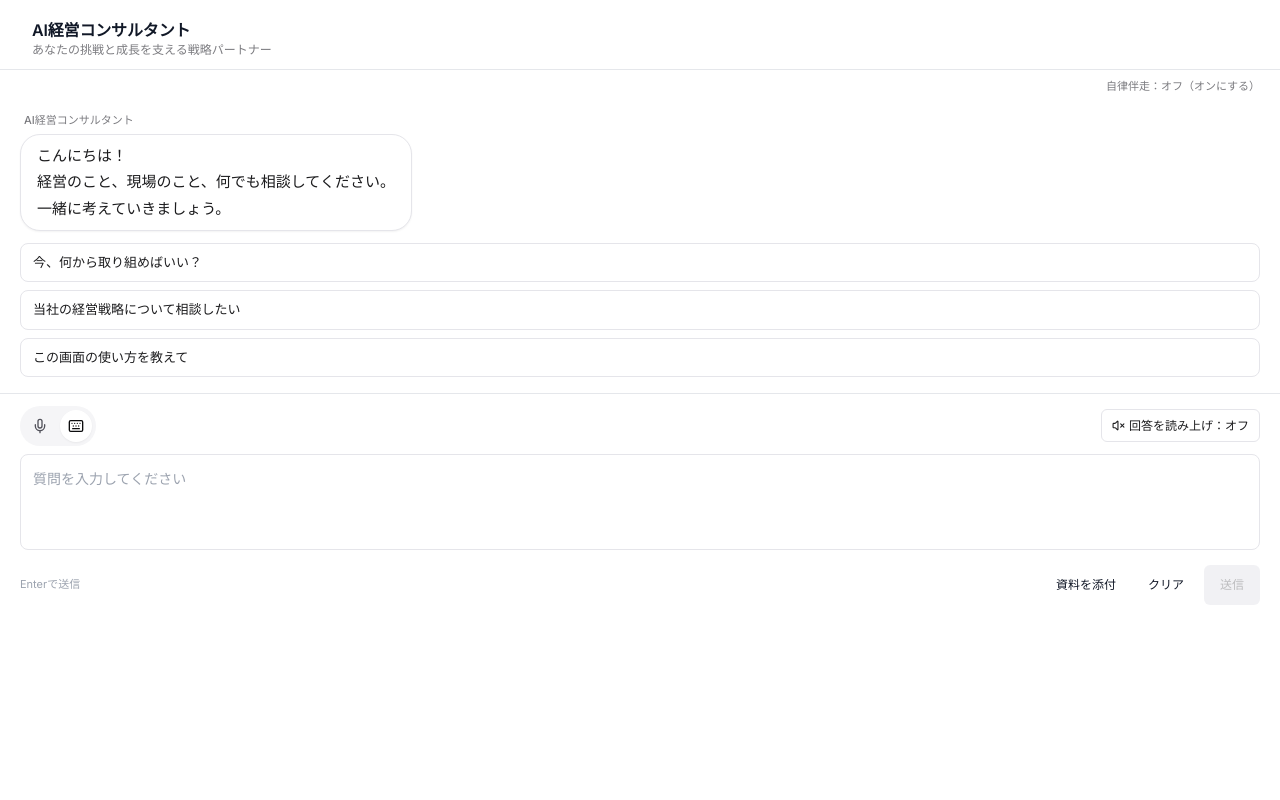
自律伴走：AIを使うのは利用者が選んだ時だけ › 伴走をオフにすると、表示中の案内は消え、以後は出ない
Expected: the text box is enabled, [20,454,1260,550]
Click the button "自律伴走：オフ（オンにする）" at (1183, 87), box [1106,78,1260,96]
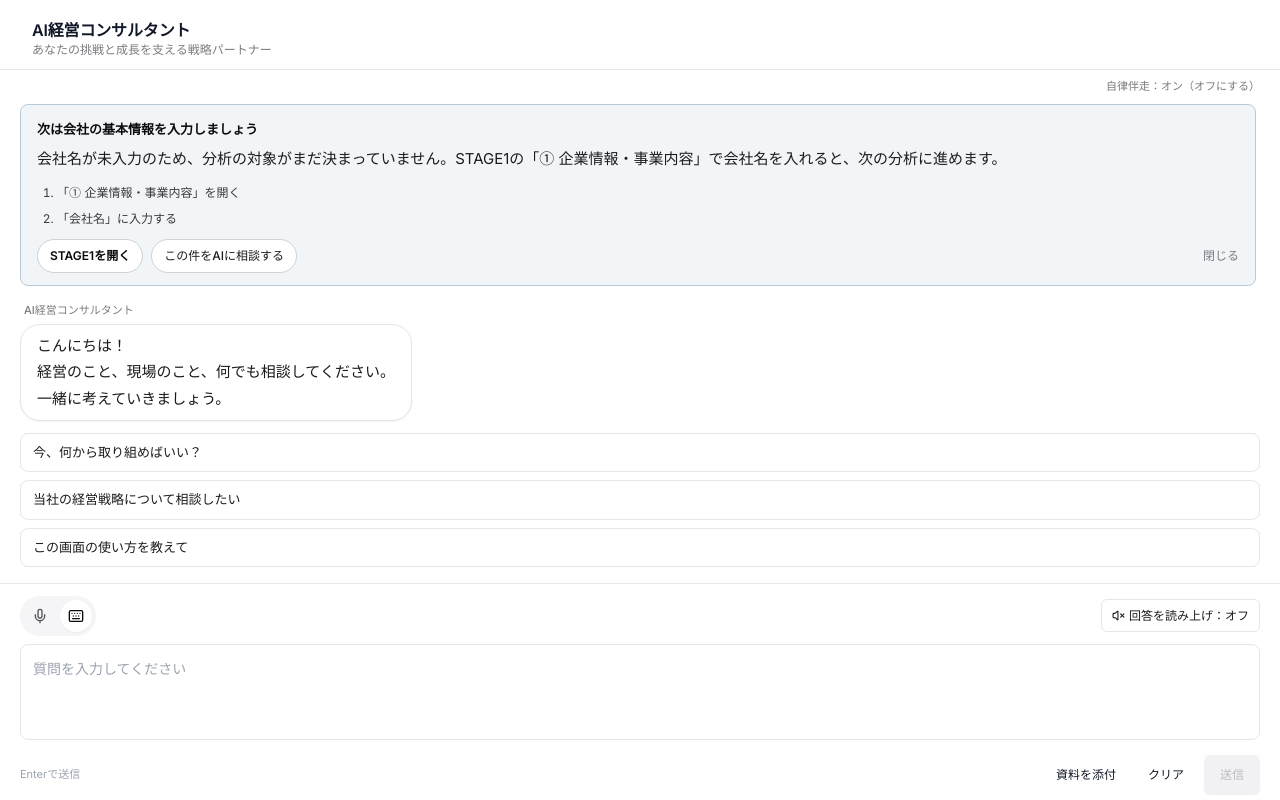
Now the element named "AI経営コンサルタントからの案内" shows "次は会社の基本情報を入力しましょう", box [37,121,258,137]
Click the button "自律伴走：オン（オフにする）" at (1183, 87), box [1106,78,1260,96]
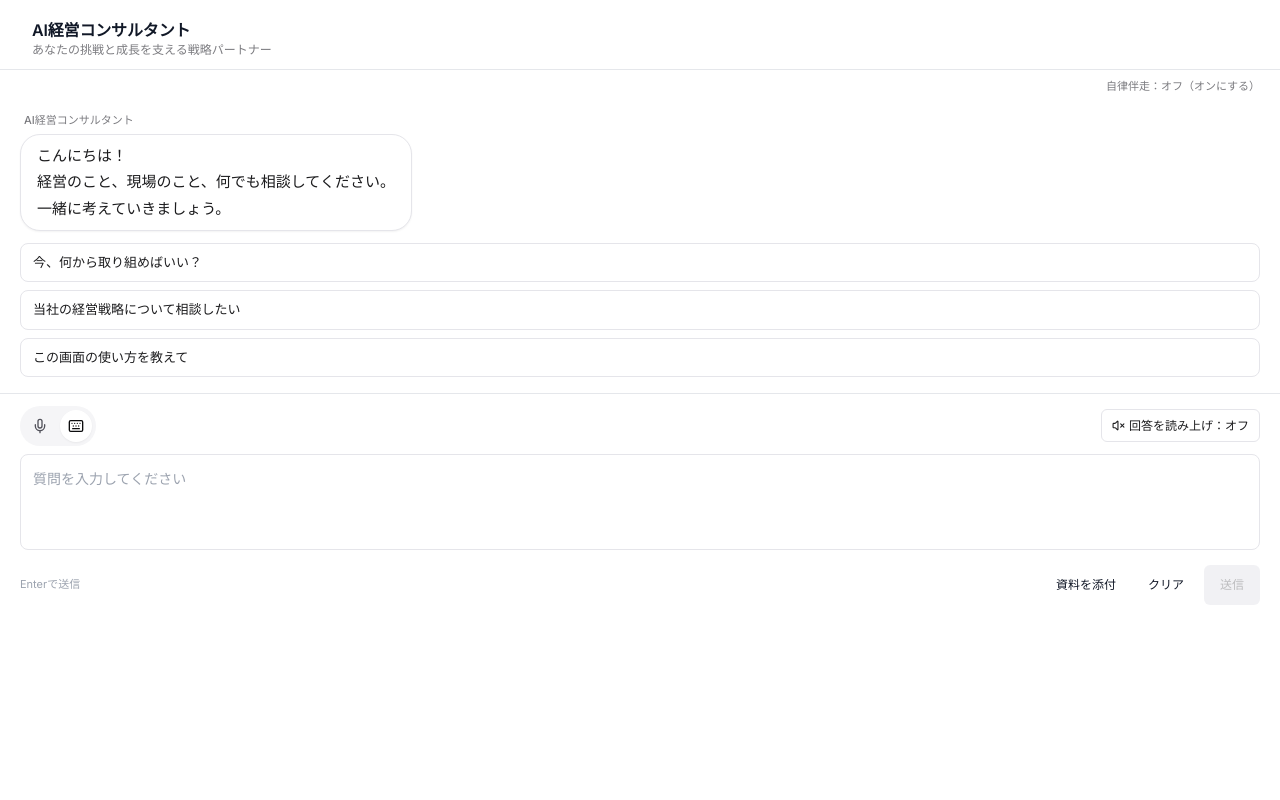
Now the button "自律伴走：オフ（オンにする）" is shown, box [1106,78,1260,96]
